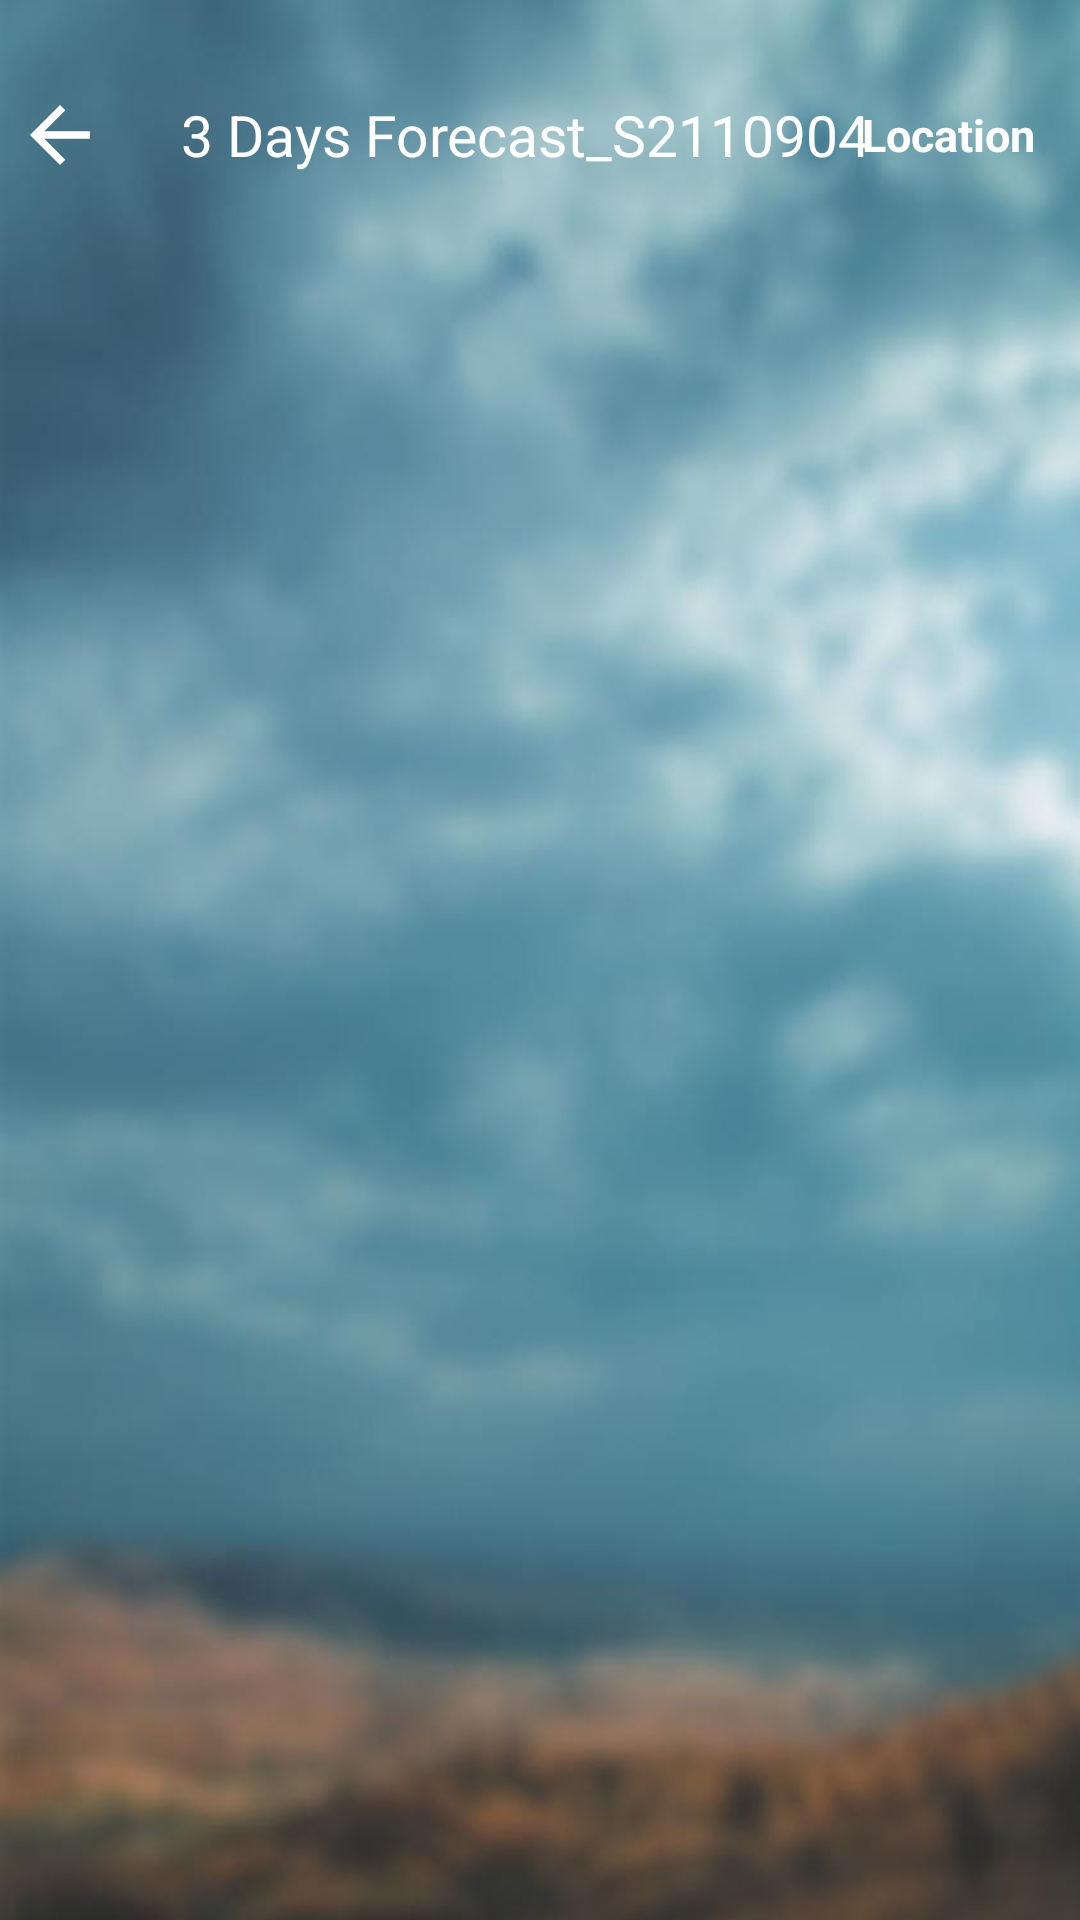

Where to tap for icons on this 1080 x 1920 app screen, as (x,y):
arrow back: (60,135)
